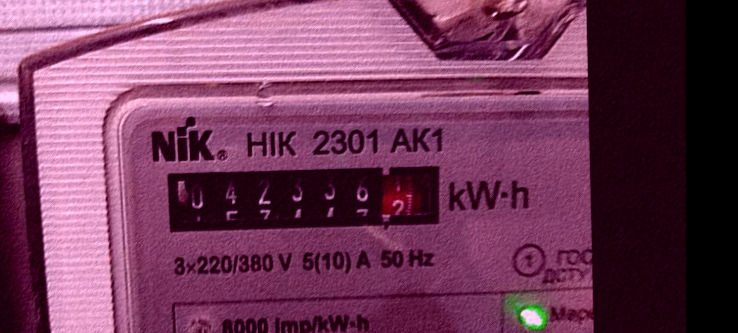0: (187, 184, 204, 213)
1: (390, 174, 403, 196)
2: (255, 179, 272, 208), (389, 200, 405, 218)
3: (319, 174, 336, 205), (287, 177, 303, 205)
4: (221, 178, 239, 208)
6: (353, 175, 371, 206)
screen: (155, 156, 452, 243)
